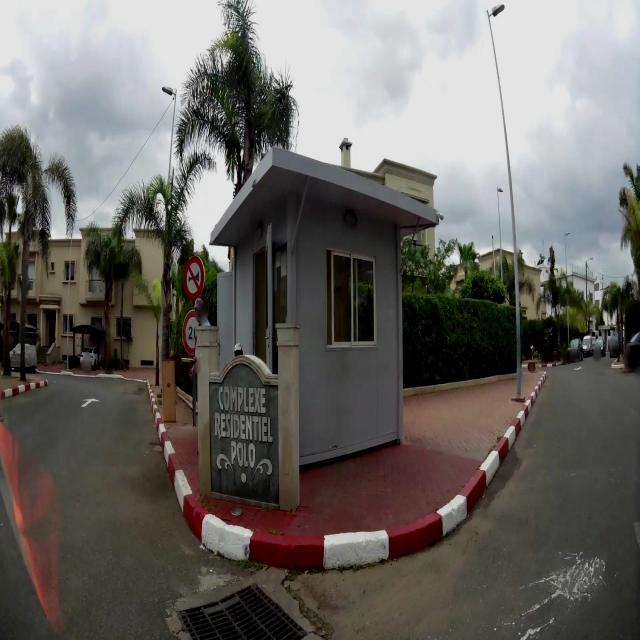car: (8, 339, 38, 374), (624, 326, 640, 369), (79, 344, 102, 370), (582, 331, 603, 359), (603, 324, 620, 358), (567, 335, 583, 364)
